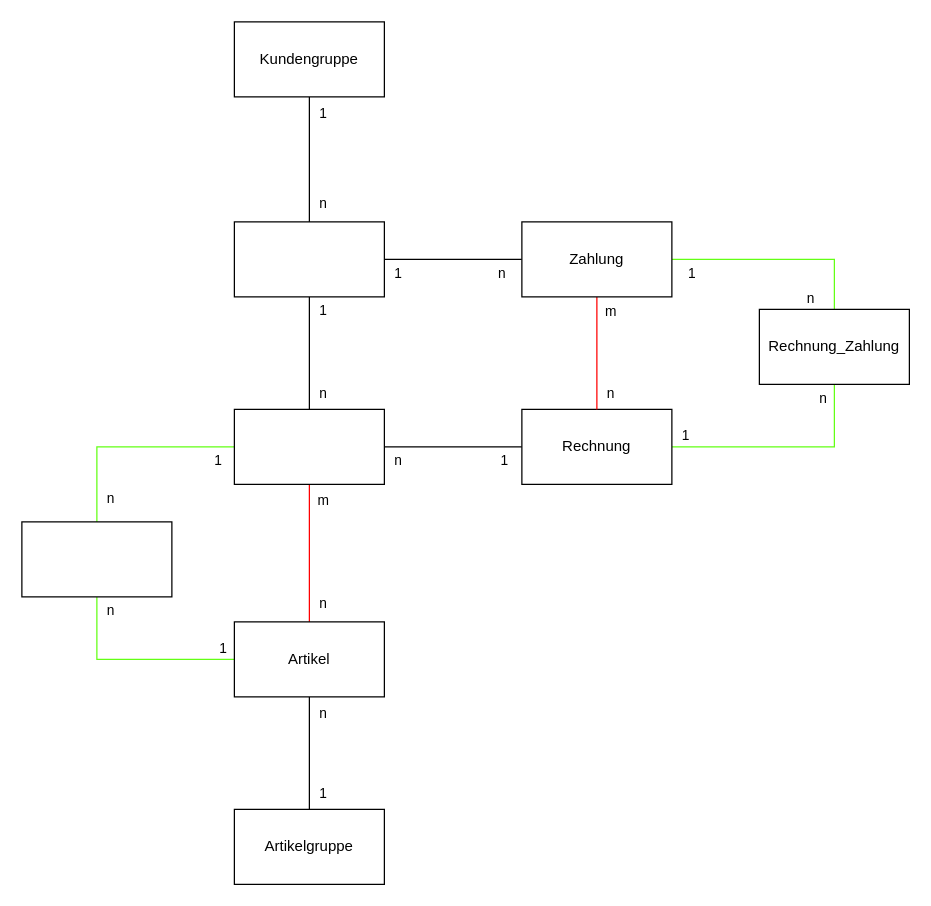
Some shapes in this 931 by 906 pixel diagram are drawn without their labels. The centre of each missing label's shape, as x and y in pixels:
"Auftrag" belongs at pixel 308 446.
"Auftragsposition (Auftrag_Artikel)" belongs at pixel 96 559.
"Kunde" belongs at pixel 308 259.
